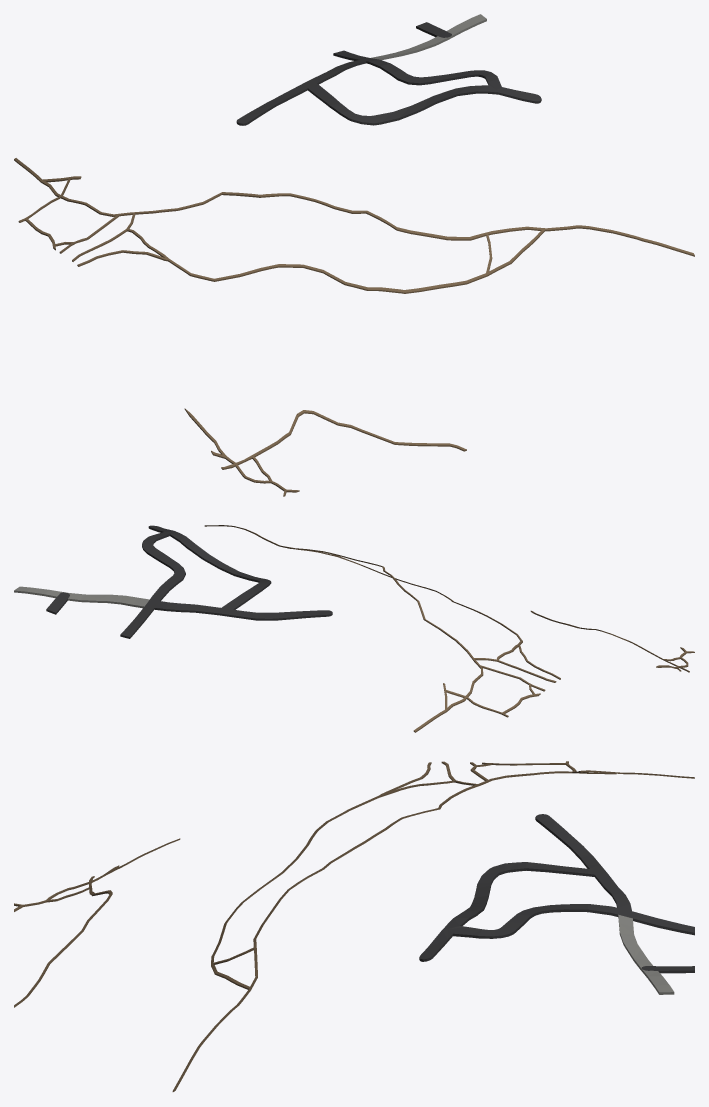
3 views of the same model, one above another, from view 1: azimuth 30°, elevation 25°; view 2: azimuth 150°, elevation 25°; view 3: azimuth 270°, elevation 25° (orthographic). The views are drawn at different scales.
Bounding box in the file's own units: 293 × 97.11 × 292.
